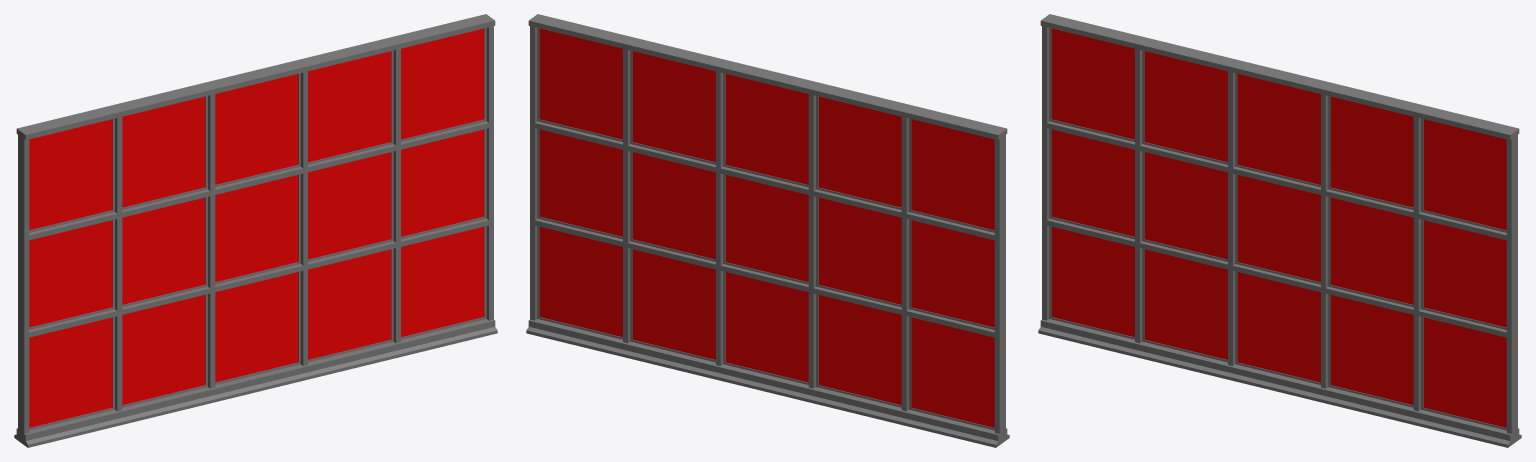
File: Window02.fbx
3 views of the same model, side by side, from view 1: azimuth 30°, elevation 25°; view 2: azimuth 150°, elevation 25°; view 3: azimuth 330°, elevation 25° (orthographic).
Parts seen in each view (by area): view 1: Window02; view 2: Window02; view 3: Window02.
Part boxes in pixels (x1,y1,x2,y2): Window02: (14,14,497,447); Window02: (526,14,1009,447); Window02: (1038,14,1521,447).
Size of the model in its own units: 240 by 152 by 12.
